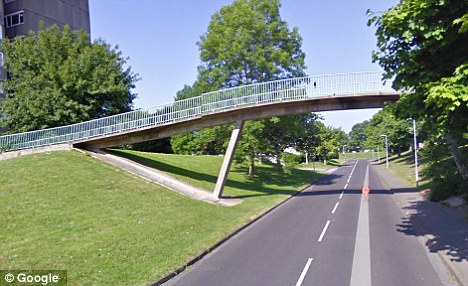bridge: (1, 68, 416, 155)
